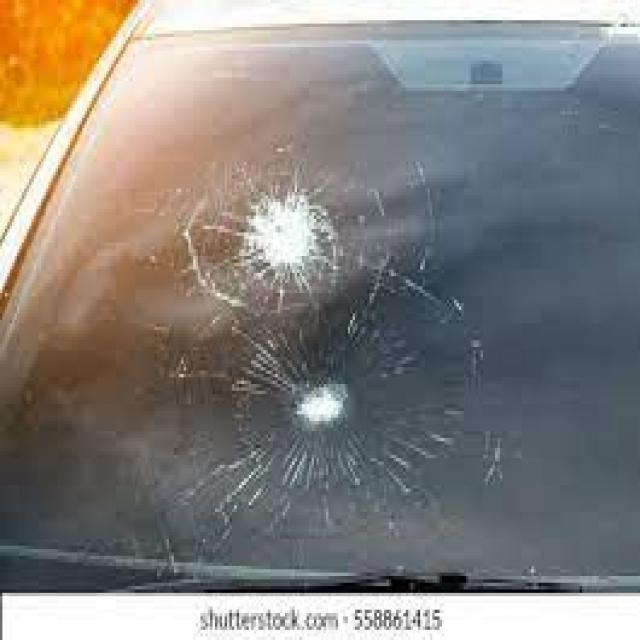damaged-rear-window: (3, 30, 640, 596)
